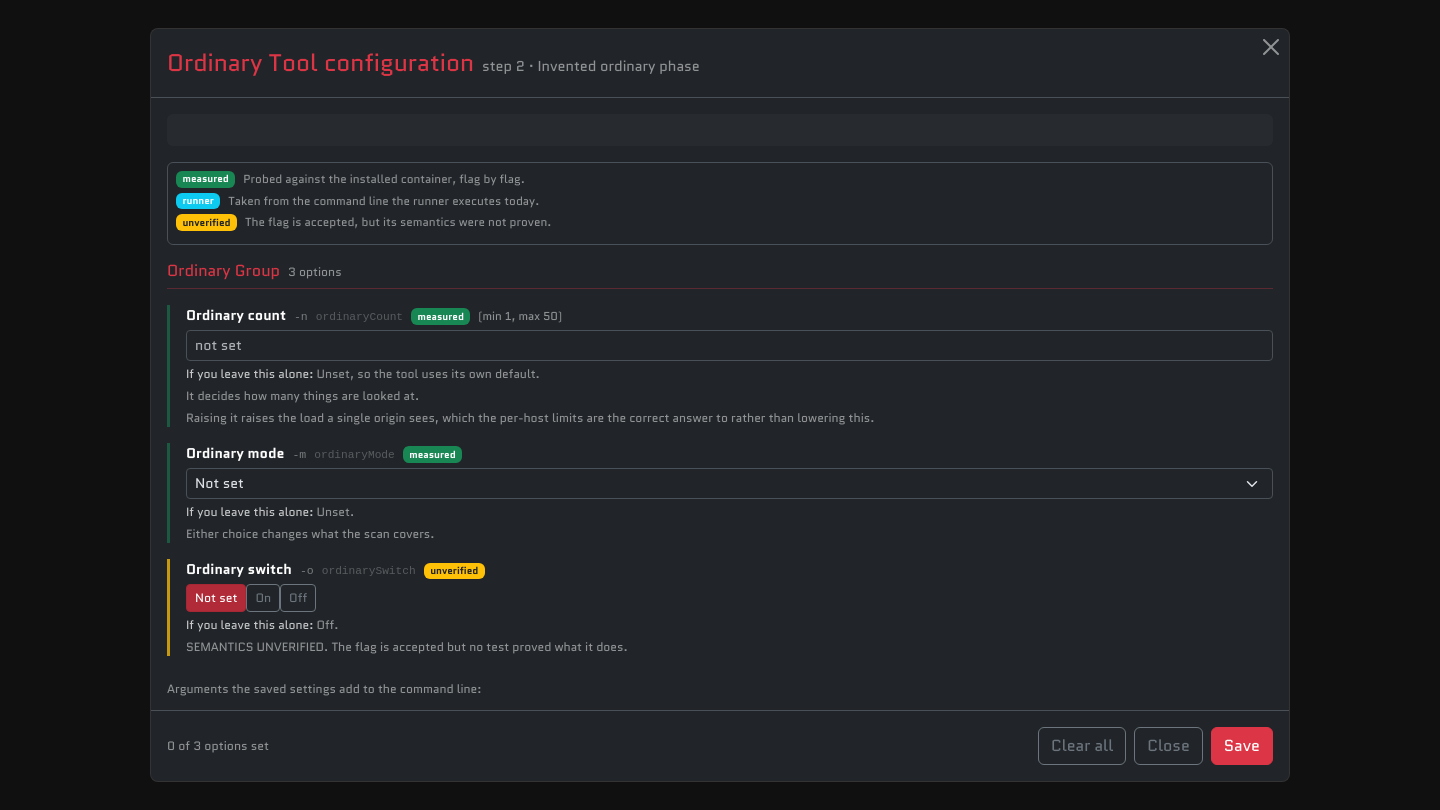
an out-of-range number shows an inline error on that field and blocks Save
Step 1. Type "0" into the number field with id "wildcard-ordinarytool-ordinaryCount" → x=730, y=345, box [186,330,1273,361]
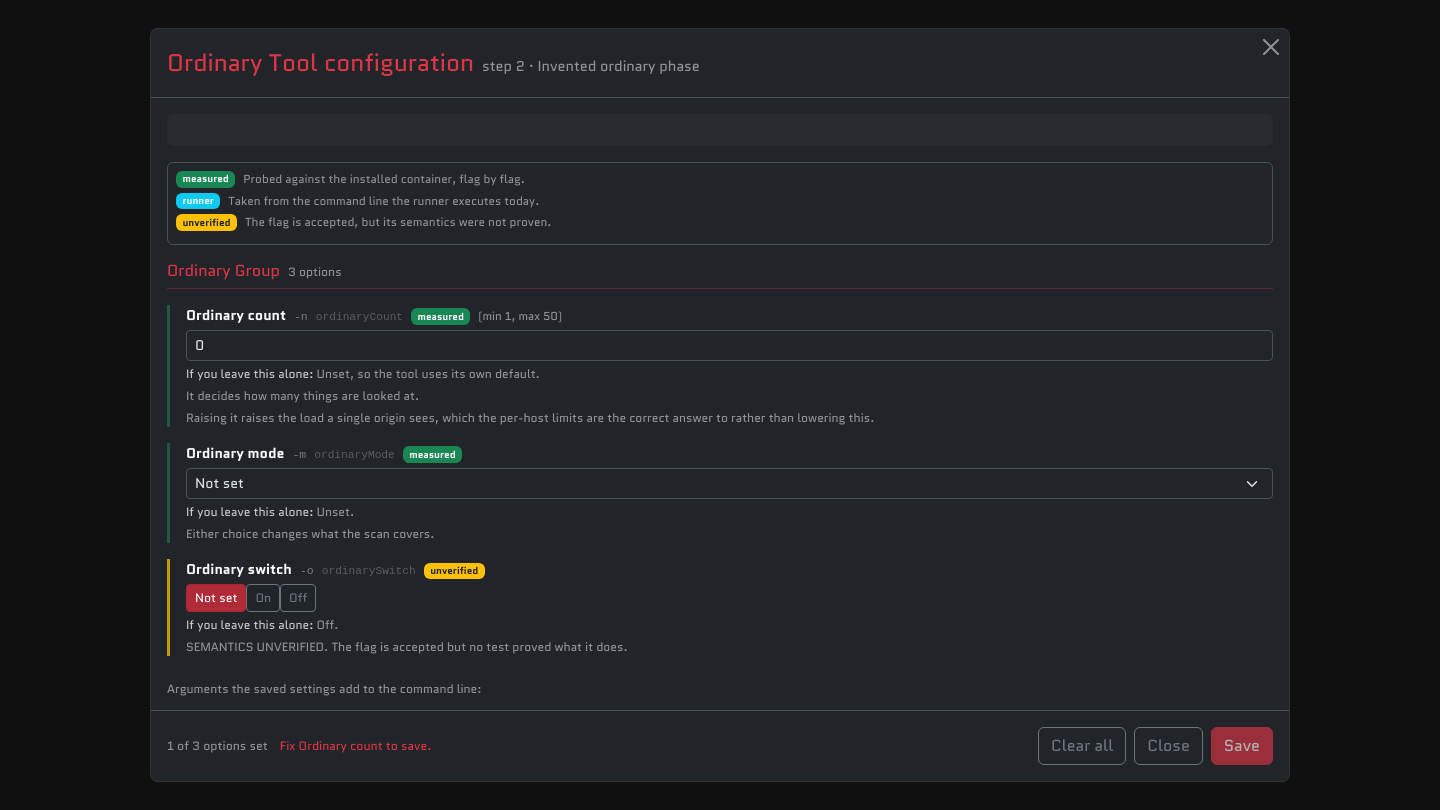
Step 2. Leave the number field with id "wildcard-ordinarytool-ordinaryCount", box [186,330,1273,361]
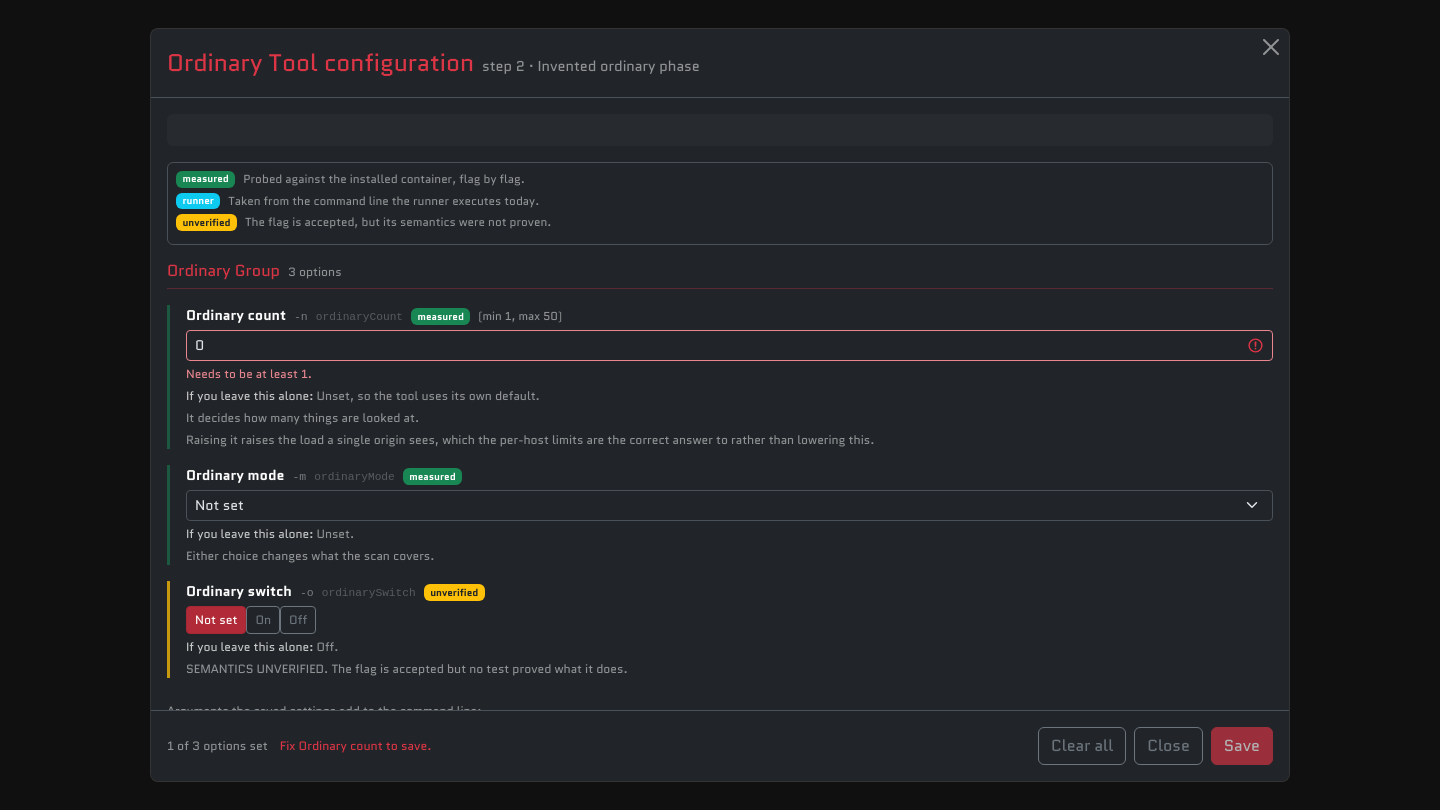
Expected: the button "Save" is disabled, [1211,727,1273,765]
Expected: the text "Fix Ordinary count to save." is shown, [276,737,432,754]
Expected: the text with test id "error-ordinaryCount" shows "at least 1", [186,365,312,382]
